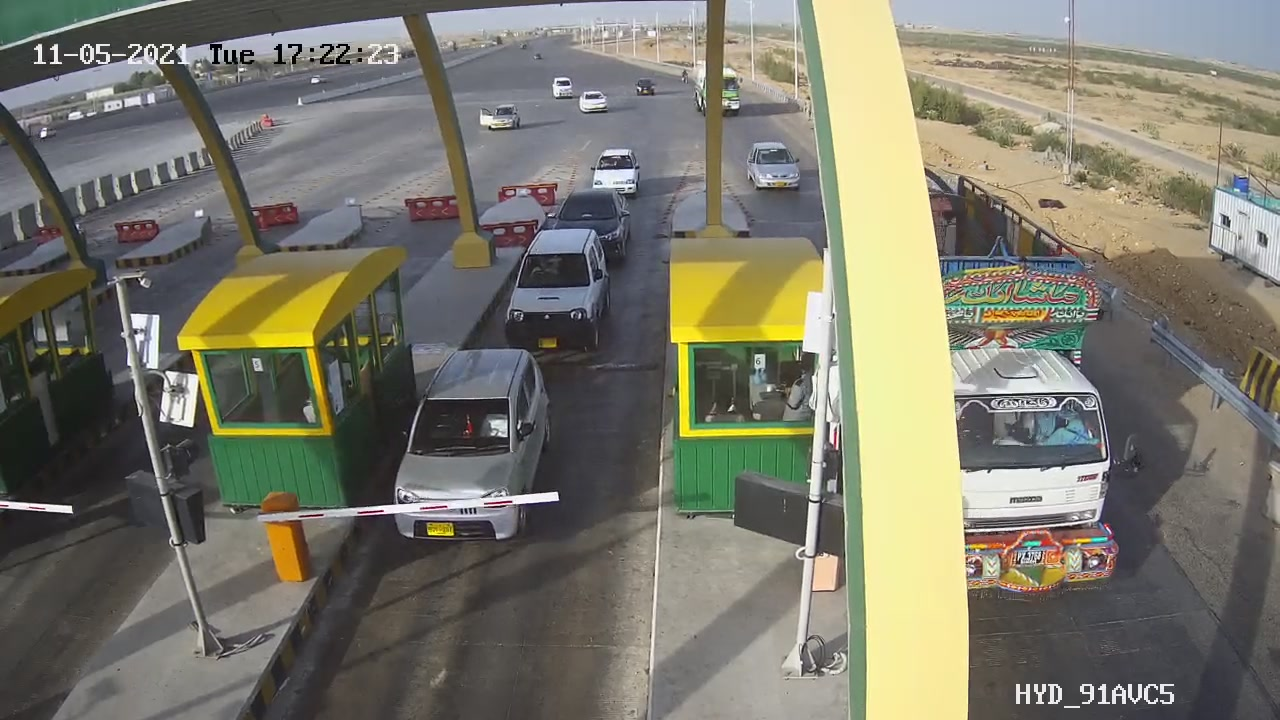F1: (377, 330, 570, 560), (483, 213, 637, 365)
